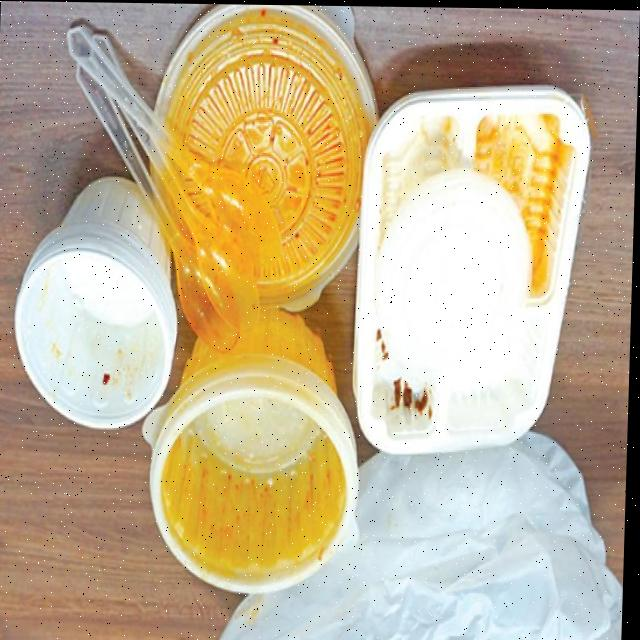disposable: (353, 71, 616, 489), (136, 295, 394, 585), (0, 185, 200, 435)
